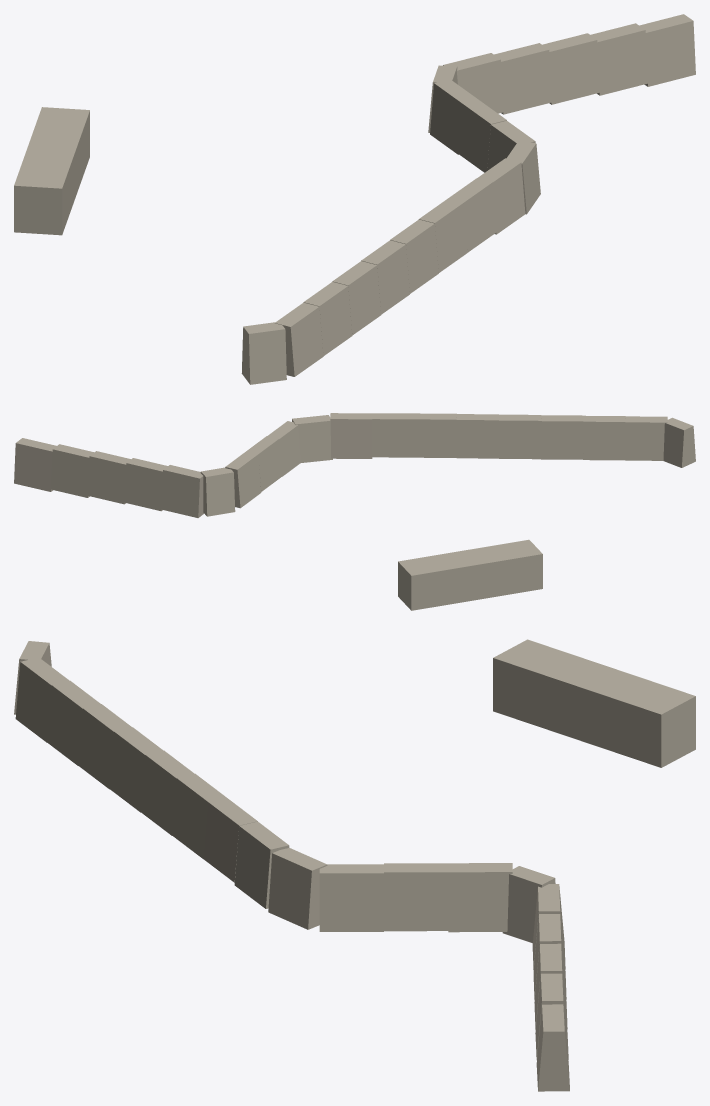
File: bormla_60_33_mid.glb
The picture shows the model from 3 angles, top to bottom: view 1: azimuth 30°, elevation 25°; view 2: azimuth 150°, elevation 25°; view 3: azimuth 270°, elevation 25°; orthographic projection. The views are drawn at different scales.
Visible parts, largest first — view 1: geometry_0; view 2: geometry_0; view 3: geometry_0.
Part boxes in pixels (<box>): geometry_0: <box>14,14,695,384</box>; geometry_0: <box>14,413,695,610</box>; geometry_0: <box>14,639,695,1091</box>.
Size of the model in its own units: 170 by 16.36 by 127.
